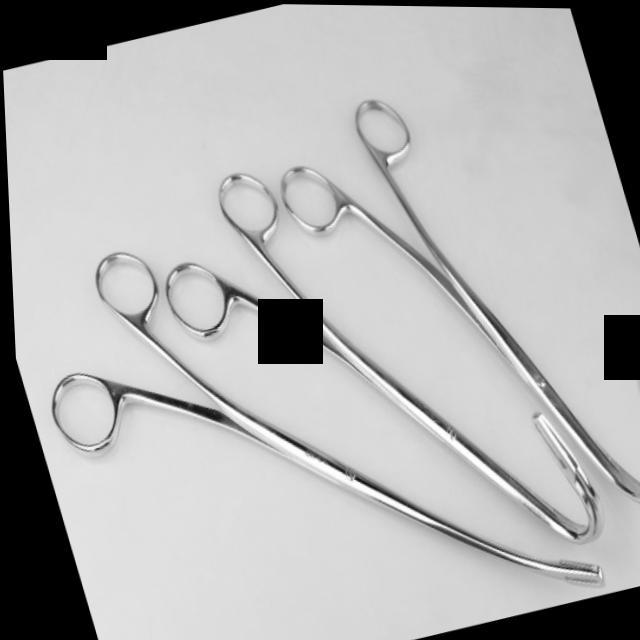Randall: (116, 97, 610, 626), (244, 11, 640, 566)
